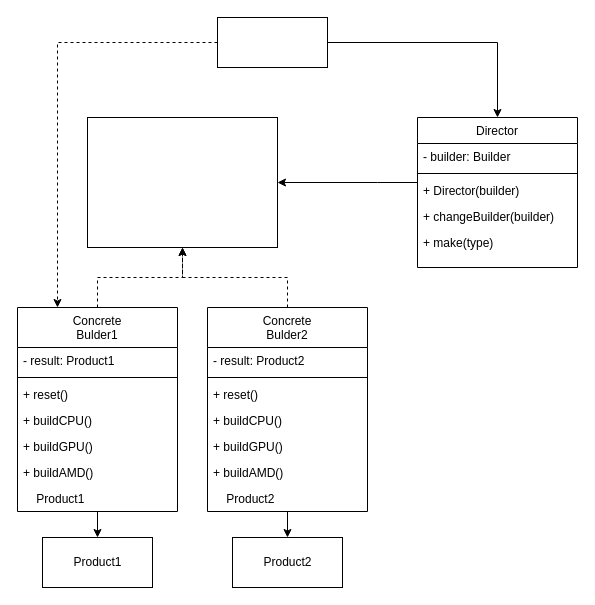
The diagram is 595 pixels wide and 605 high, and some of its shapes have lost their labels. The centre of each missing label's shape, as x and y in pixels:
"<<Interface>> builder + reset() + buildCPU() + buildGPU() + buildAMD() ..." goes at point (182, 182).
"Client" goes at point (272, 42).
